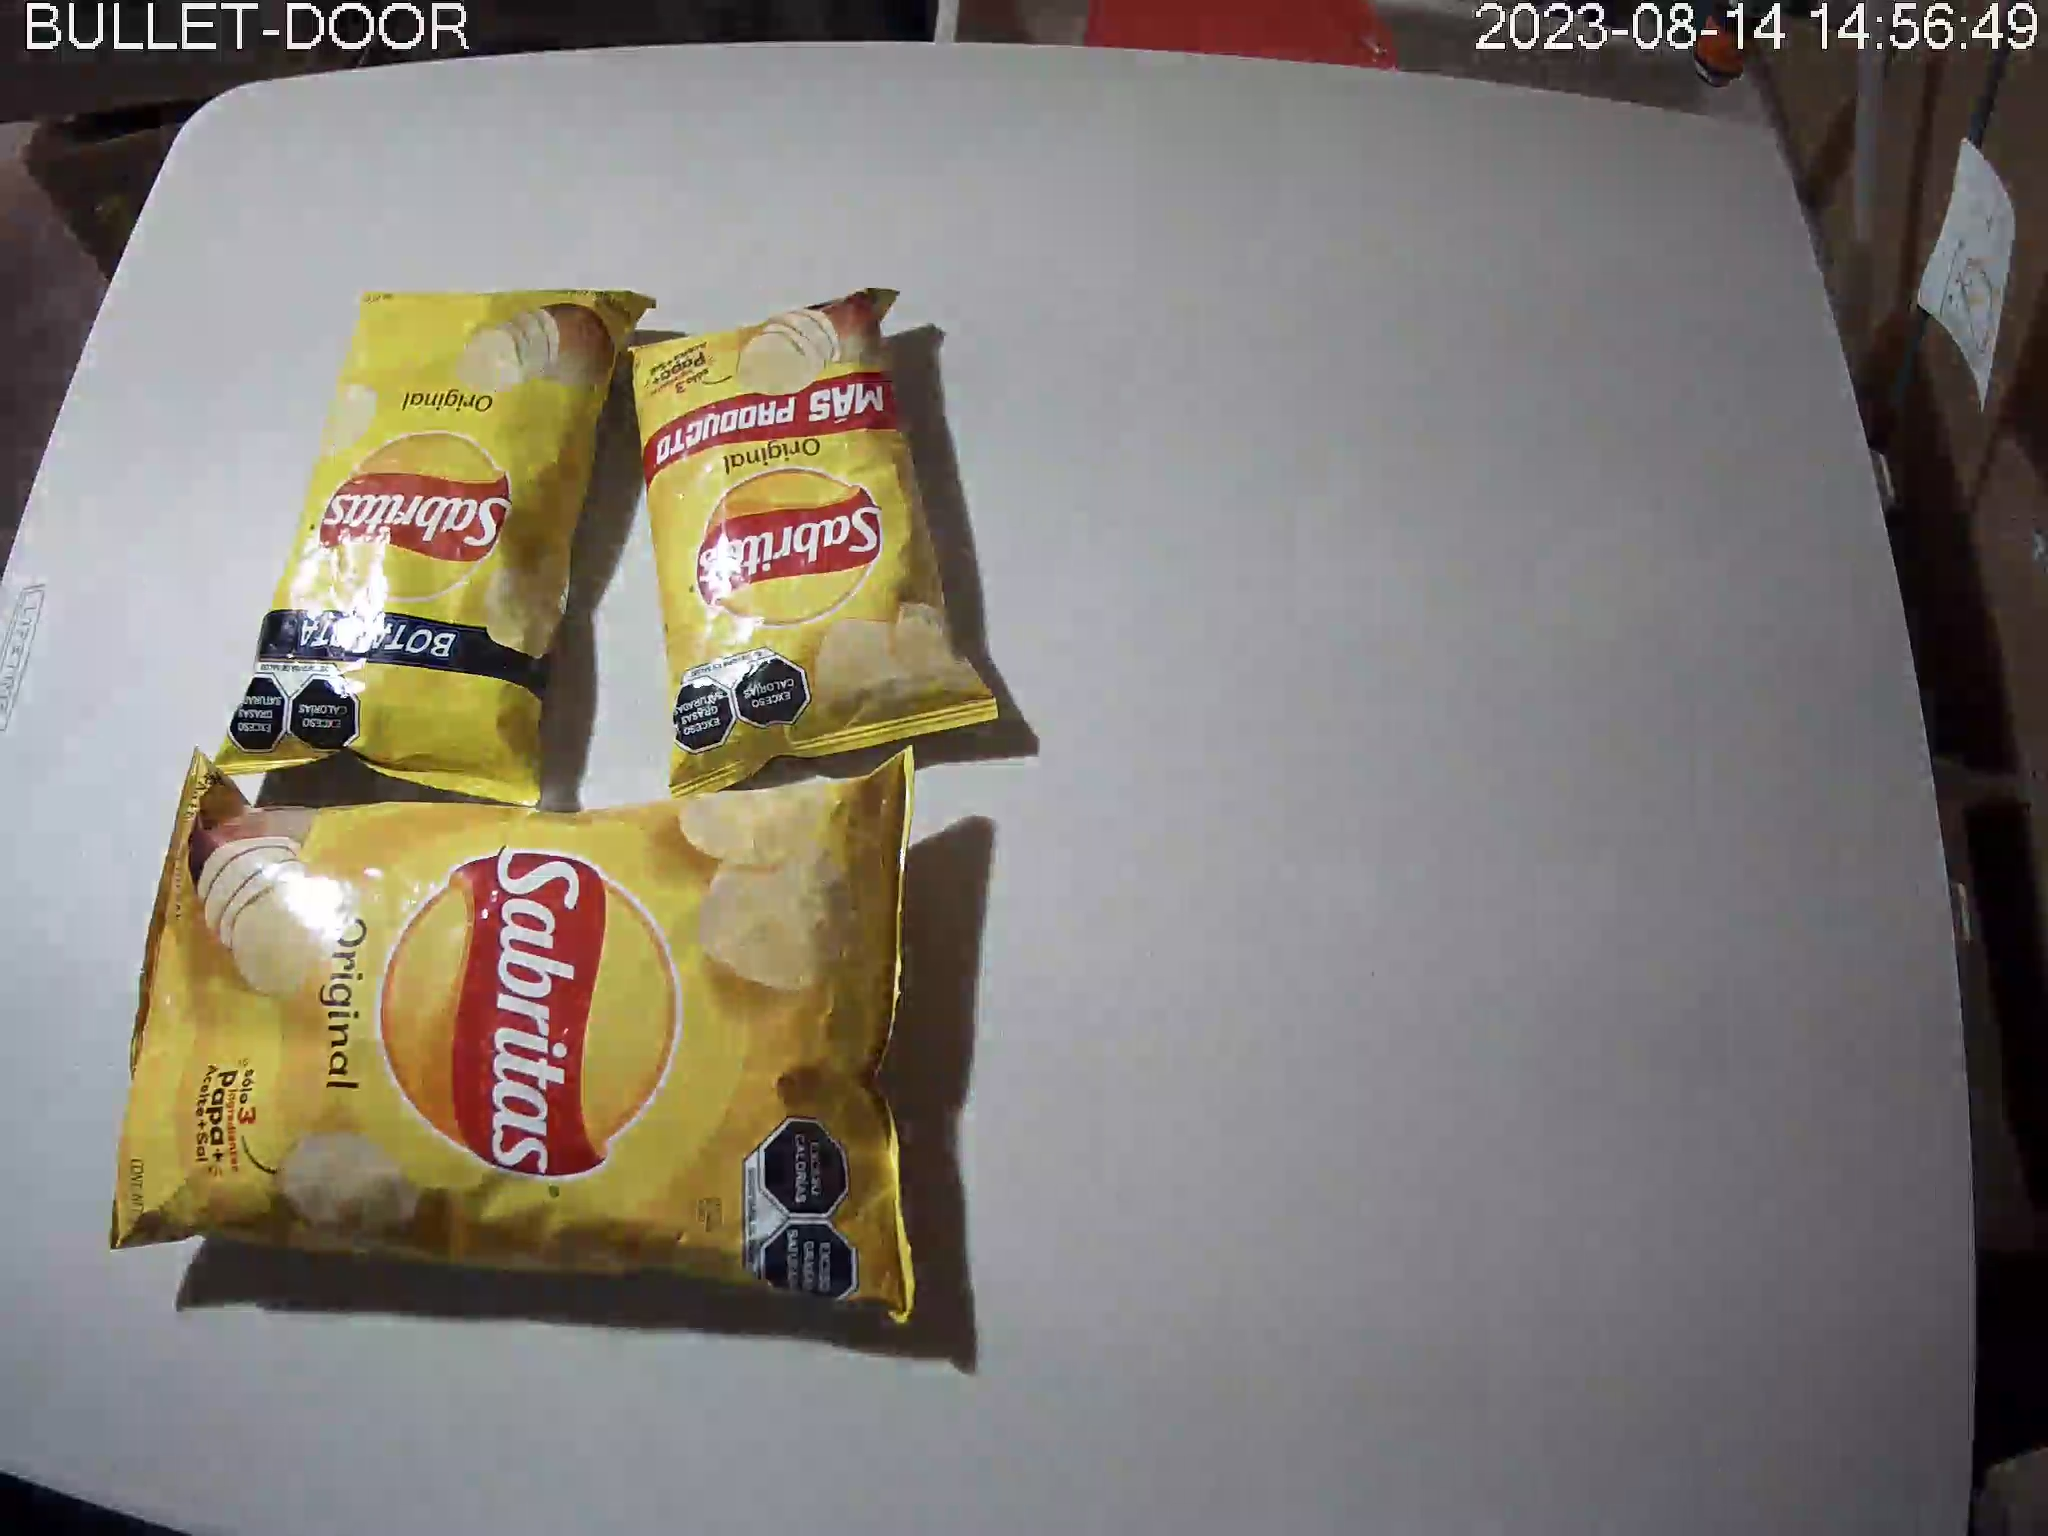Sabritas_160_F: (106, 744, 918, 1325)
Sabritas_45_F: (616, 290, 1005, 795)
Sabritas_64_F: (210, 290, 656, 810)
